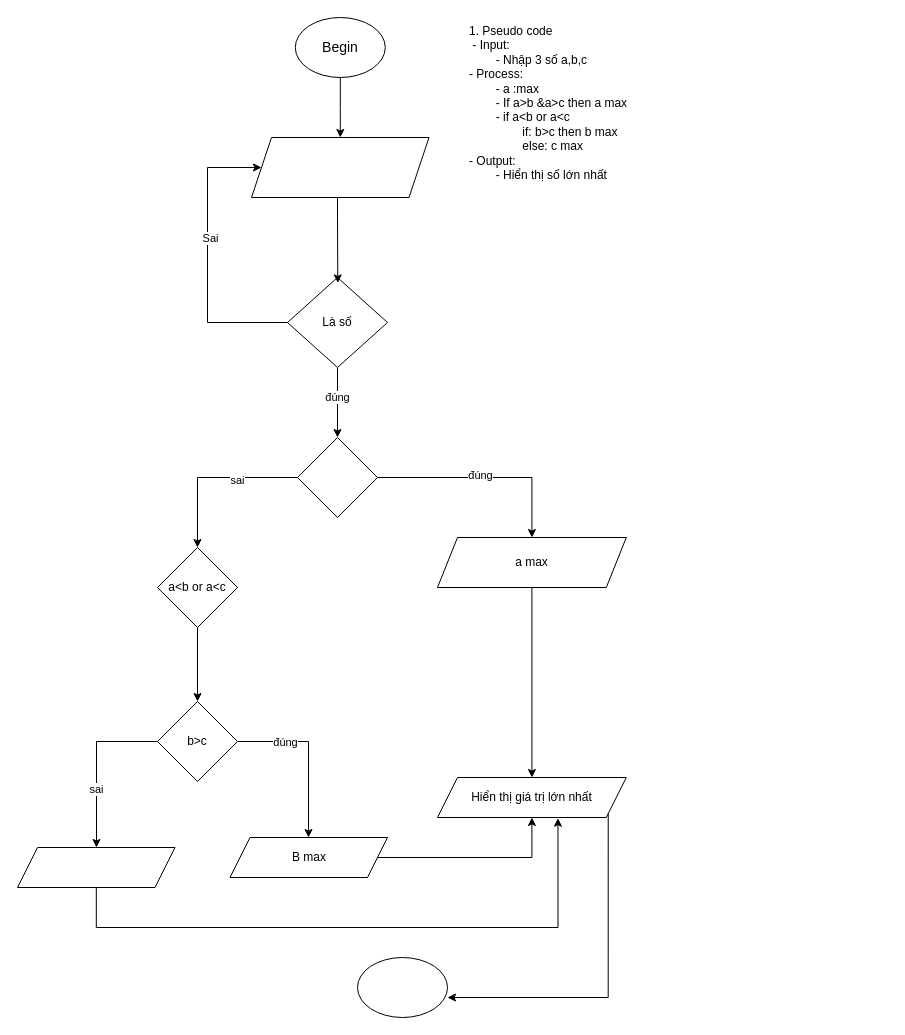
The diagram is 905 pixels wide and 1035 high, and some of its shapes have lost their labels. Here are the shapes that lost their labels. From the top down, the centre of each, then its label:
the point at 339,167: Nhập 3 số a,b,c
the point at 337,477: a>b &a>c
the point at 95,867: c max
the point at 402,987: end
